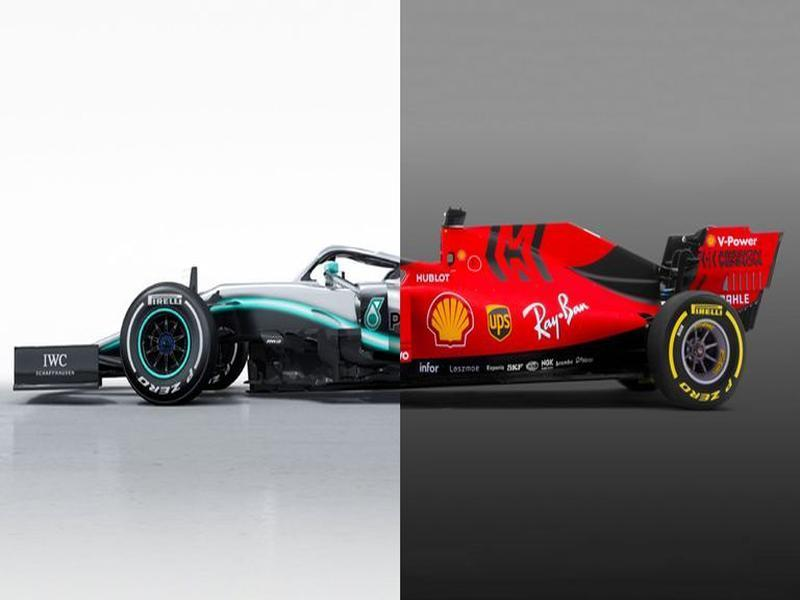f1: (11, 209, 793, 434)
